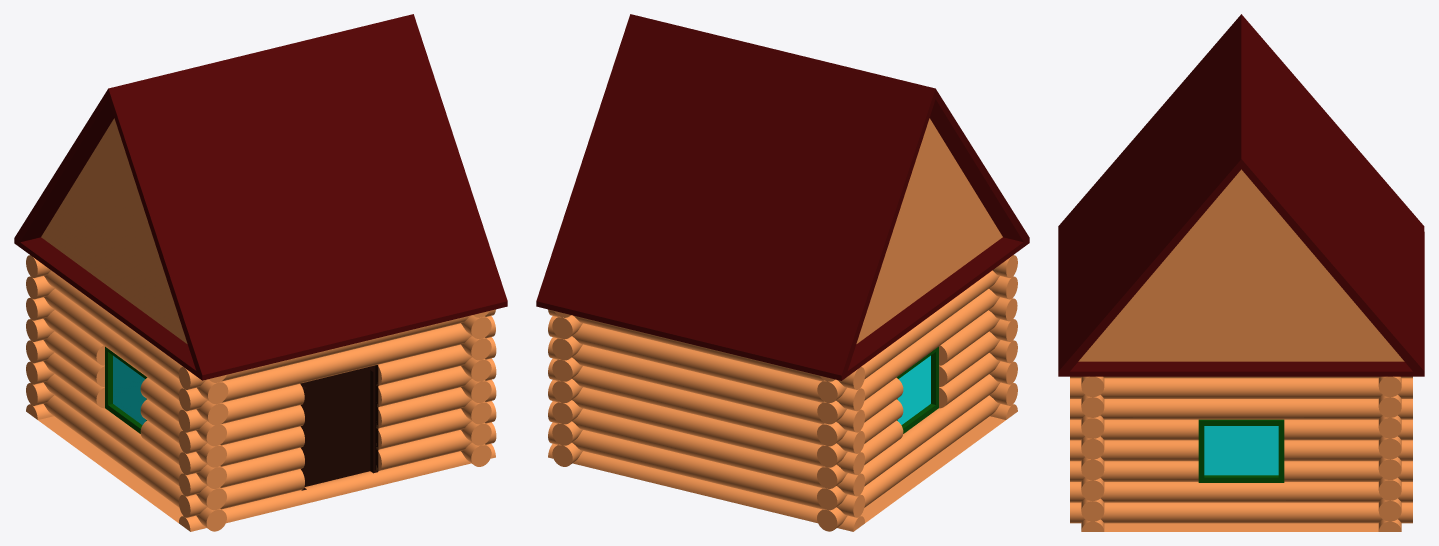
3 views of the same model, side by side, from view 1: azimuth 30°, elevation 25°; view 2: azimuth 150°, elevation 25°; view 3: azimuth 270°, elevation 25° (orthographic). The views are drawn at different scales.
Visible parts, largest first — view 1: Куб.007_Куб.008_Куб.007_Куб.153, Куб.007_Куб.001_Куб.007_Куб.146, Куб.007_Куб.011_Куб.007_Куб.156, Куб.007_Куб.054_Куб.007_Куб.198, Куб.007_Куб.057_Куб.007_Куб.201, Куб.007_Куб.033_Куб.007_Куб.177, Куб.007_Куб.041_Куб.007_Куб.185, Куб.007_Куб.034_Куб.007_Куб.178, Куб.007_Куб.042_Куб.007_Куб.186, Куб.007_Куб.012_Куб.007_Куб.157, Куб.007_Куб.000_Куб.007_Куб.145, Куб.007_Куб.043_Куб.007_Куб.187 (+16 smaller); view 2: Куб.007_Куб.008_Куб.007_Куб.153, Куб.007_Куб.001_Куб.007_Куб.146, Куб.007_Куб.021_Куб.007_Куб.165, Куб.007_Куб.022_Куб.007_Куб.166, Куб.007_Куб.020_Куб.007_Куб.164, Куб.007_Куб.018_Куб.007_Куб.162, Куб.007_Куб.017_Куб.007_Куб.161, Куб.007_Куб.019_Куб.007_Куб.163, Куб.007_Куб.058_Куб.007_Куб.202, Куб.007_Куб.033_Куб.007_Куб.177, Куб.007_Куб.034_Куб.007_Куб.178, Куб.007_Куб.041_Куб.007_Куб.185 (+10 smaller); view 3: Куб.007_Куб.008_Куб.007_Куб.153, Куб.007_Куб.001_Куб.007_Куб.146, Куб.007_Куб.024_Куб.007_Куб.168, Куб.007_Куб.029_Куб.007_Куб.173, Куб.007_Куб.030_Куб.007_Куб.174, Куб.007_Куб.025_Куб.007_Куб.169, Куб.007_Куб.015_Куб.007_Куб.159, Куб.007_Куб.000_Куб.007_Куб.145, Куб.007_Куб.013_Куб.007_Куб.057, Куб.007_Куб.032_Куб.007_Куб.176, Куб.007_Куб.028_Куб.007_Куб.172, Куб.007_Куб.027_Куб.007_Куб.171 (+17 smaller).
Part boxes in pixels (x1,y1,x2,y2): Куб.007_Куб.008_Куб.007_Куб.153: (14,14,507,380); Куб.007_Куб.001_Куб.007_Куб.146: (41,118,187,343); Куб.007_Куб.011_Куб.007_Куб.156: (300,365,378,490); Куб.007_Куб.054_Куб.007_Куб.198: (178,316,495,411); Куб.007_Куб.057_Куб.007_Куб.201: (179,443,495,531); Куб.007_Куб.033_Куб.007_Куб.177: (43,374,226,510); Куб.007_Куб.041_Куб.007_Куб.185: (44,289,228,425); Куб.007_Куб.034_Куб.007_Куб.178: (43,395,226,531); Куб.007_Куб.042_Куб.007_Куб.186: (44,270,228,404); Куб.007_Куб.012_Куб.007_Куб.157: (105,346,147,433); Куб.007_Куб.000_Куб.007_Куб.145: (38,416,182,522); Куб.007_Куб.043_Куб.007_Куб.187: (179,469,304,517); Куб.007_Куб.008_Куб.007_Куб.153: (536,14,1029,380); Куб.007_Куб.001_Куб.007_Куб.146: (856,118,1002,343); Куб.007_Куб.021_Куб.007_Куб.165: (548,337,864,432); Куб.007_Куб.022_Куб.007_Куб.166: (548,316,864,411); Куб.007_Куб.020_Куб.007_Куб.164: (548,401,864,496); Куб.007_Куб.018_Куб.007_Куб.162: (548,422,864,517); Куб.007_Куб.017_Куб.007_Куб.161: (548,358,864,453); Куб.007_Куб.019_Куб.007_Куб.163: (548,380,864,475); Куб.007_Куб.058_Куб.007_Куб.202: (548,443,864,531); Куб.007_Куб.033_Куб.007_Куб.177: (817,374,1000,510); Куб.007_Куб.034_Куб.007_Куб.178: (817,395,1000,531); Куб.007_Куб.041_Куб.007_Куб.185: (817,289,999,424); Куб.007_Куб.008_Куб.007_Куб.153: (1058,14,1424,376); Куб.007_Куб.001_Куб.007_Куб.146: (1078,169,1404,361); Куб.007_Куб.024_Куб.007_Куб.168: (1070,502,1412,523); Куб.007_Куб.029_Куб.007_Куб.173: (1070,399,1412,419); Куб.007_Куб.030_Куб.007_Куб.174: (1070,378,1412,398); Куб.007_Куб.025_Куб.007_Куб.169: (1070,482,1412,502); Куб.007_Куб.015_Куб.007_Куб.159: (1198,419,1284,482); Куб.007_Куб.000_Куб.007_Куб.145: (1104,523,1378,531); Куб.007_Куб.013_Куб.007_Куб.057: (1284,440,1412,461); Куб.007_Куб.032_Куб.007_Куб.176: (1284,419,1412,440); Куб.007_Куб.028_Куб.007_Куб.172: (1070,419,1198,440); Куб.007_Куб.027_Куб.007_Куб.171: (1070,440,1198,461).
Size of the model in its own units: 6.01 by 7.2 by 6.4.
